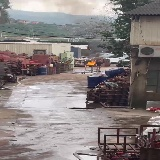fire: (86, 61, 96, 65)
